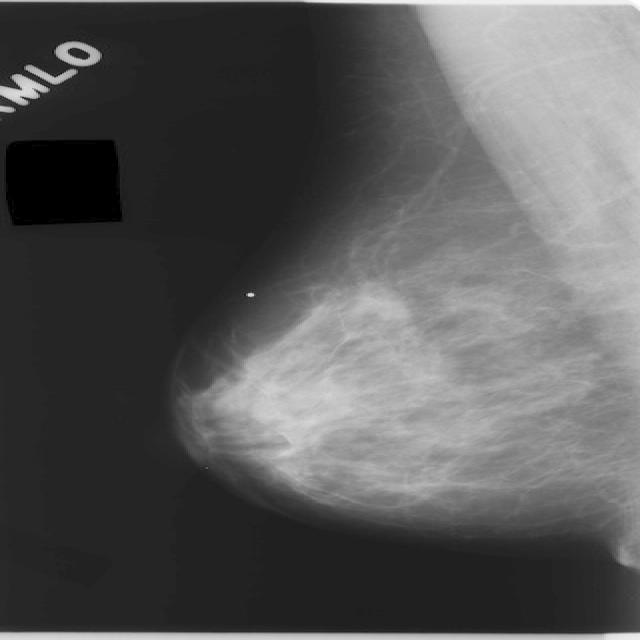tumour: (340, 285, 406, 320)
